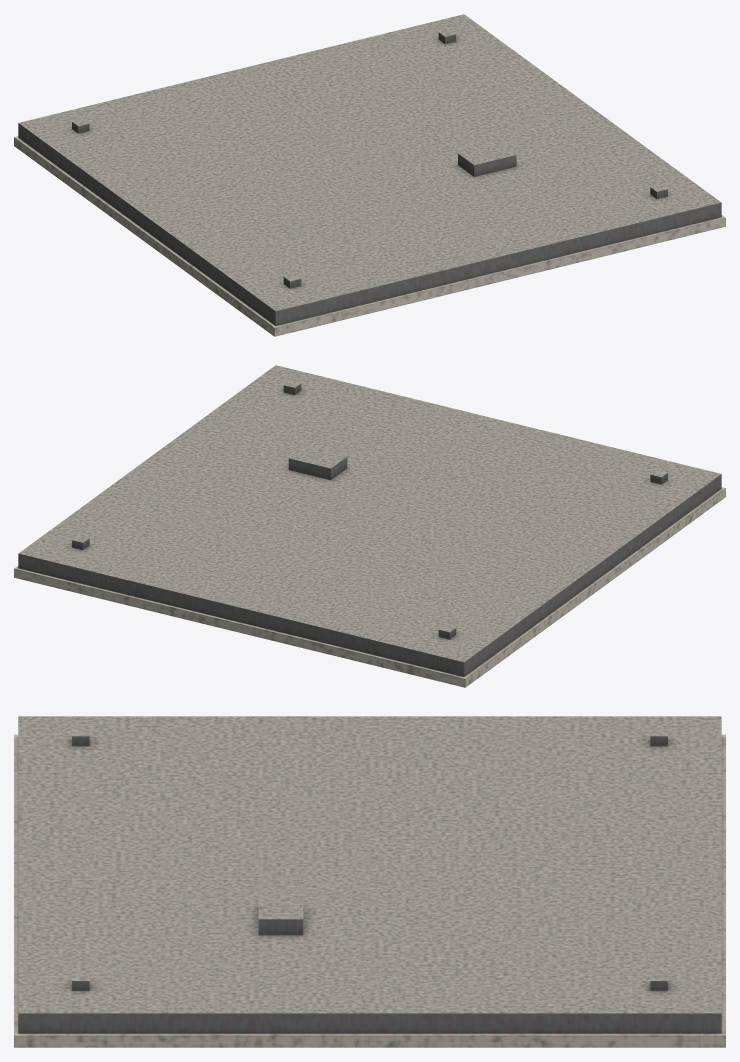
Rendered from sun_panel.fbx.
3 renders of one model, top to bottom at view 1: azimuth 30°, elevation 25°; view 2: azimuth 150°, elevation 25°; view 3: azimuth 270°, elevation 25°, orthographic. The views are drawn at different scales.
Parts seen in each view (by area): view 1: Body; view 2: Body; view 3: Body.
Boxes of the visible parts, x1,y1,x2,y2 form: Body: (14,14,725,336); Body: (14,365,725,687); Body: (14,716,725,1047).
Size of the model in its own units: 32 by 2.4 by 32.
Materials: 1 (1 with a texture image).
